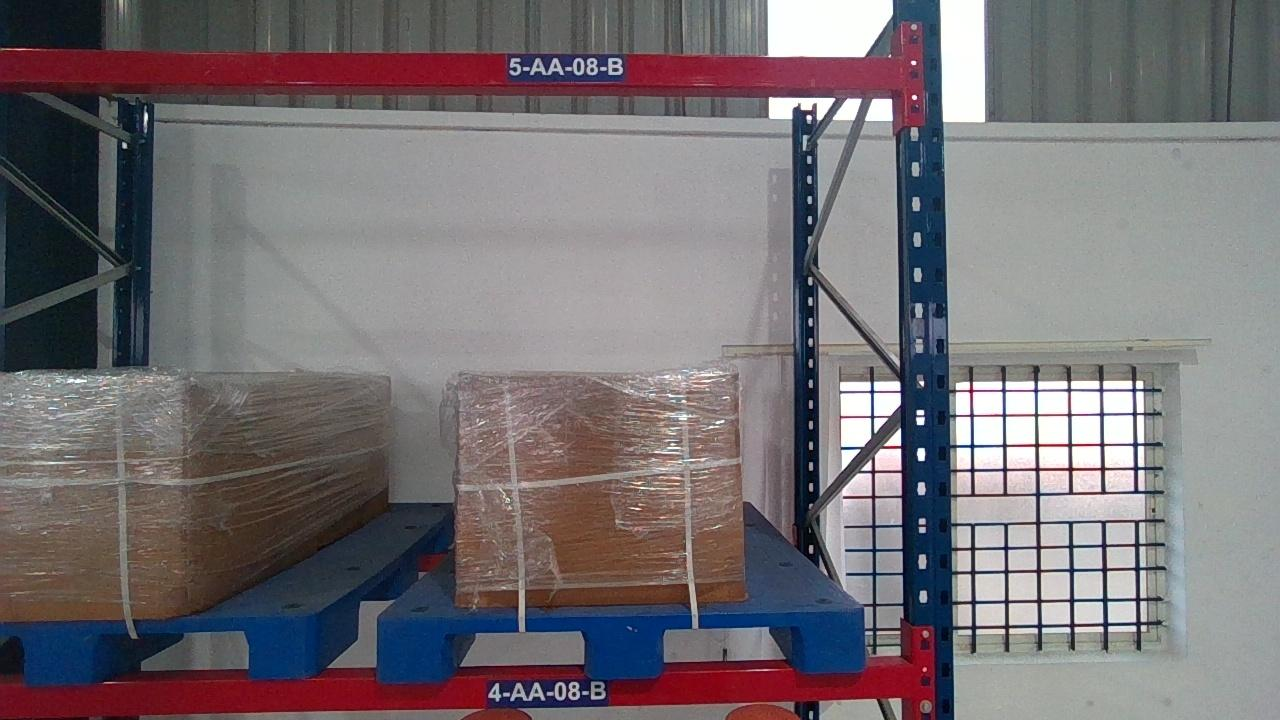h_rack: (1, 664, 911, 712), (0, 51, 902, 90)
small_pallet: (372, 609, 869, 675), (0, 614, 317, 678)
